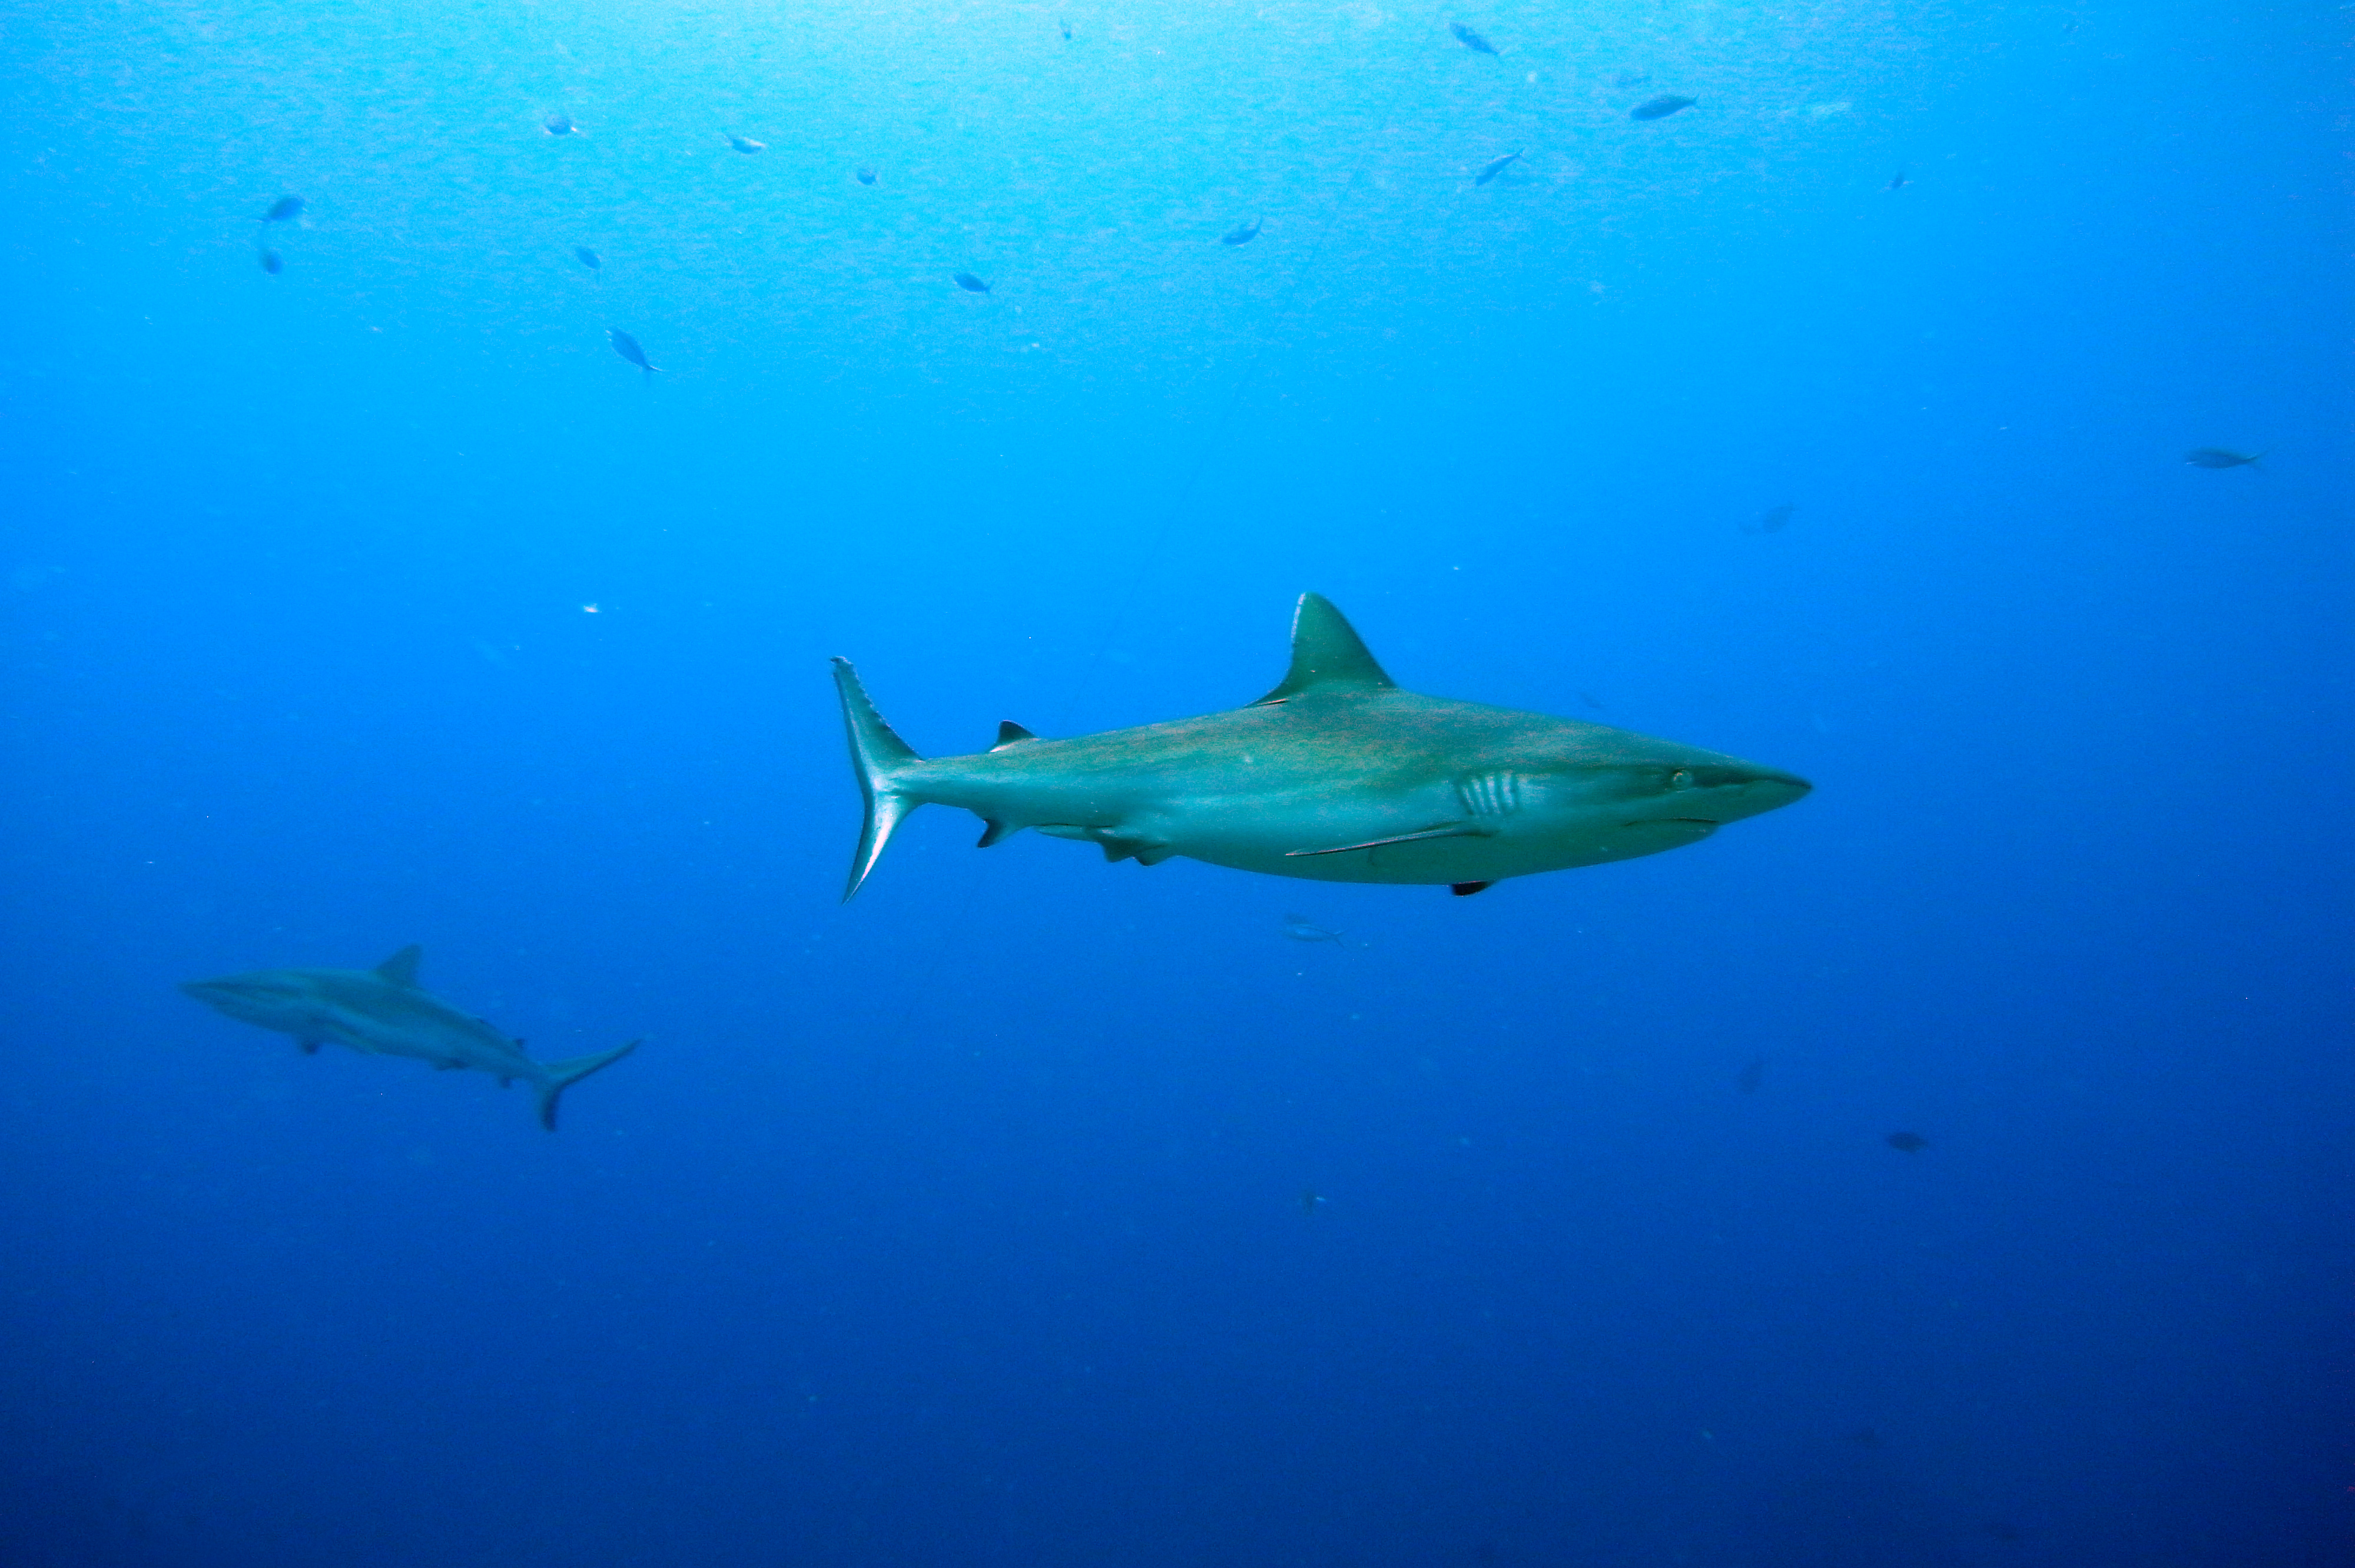Carcharhinus_amblyrhynchos: (773, 590, 1841, 947)
